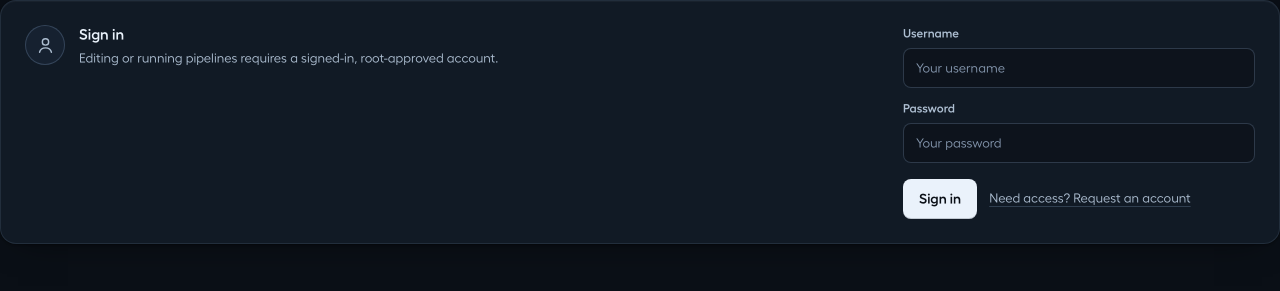
AdminAuthPanel › surfaces registration errors
Click the button "Need access? Request an account" at (1090, 199), box [983,183,1197,215]
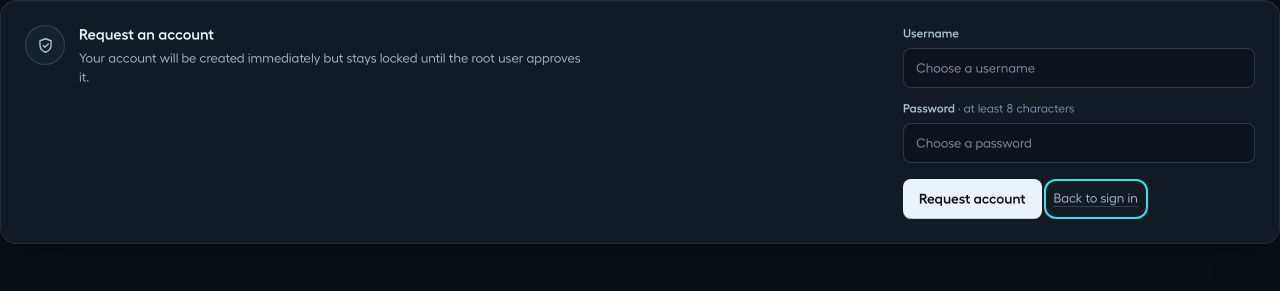
Type "alice" into the field with placeholder "Choose a username" at (1079, 68), box [903,48,1255,88]
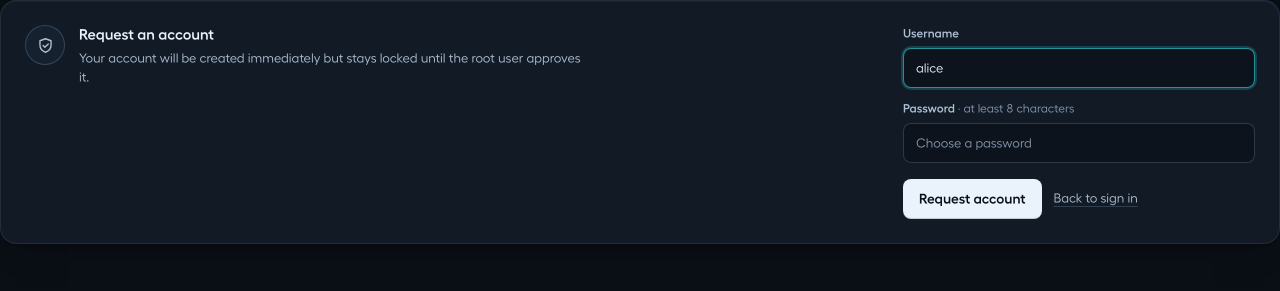
Type "alice password!" into the password field with placeholder "Choose a password" at (1079, 143), box [903,123,1255,163]
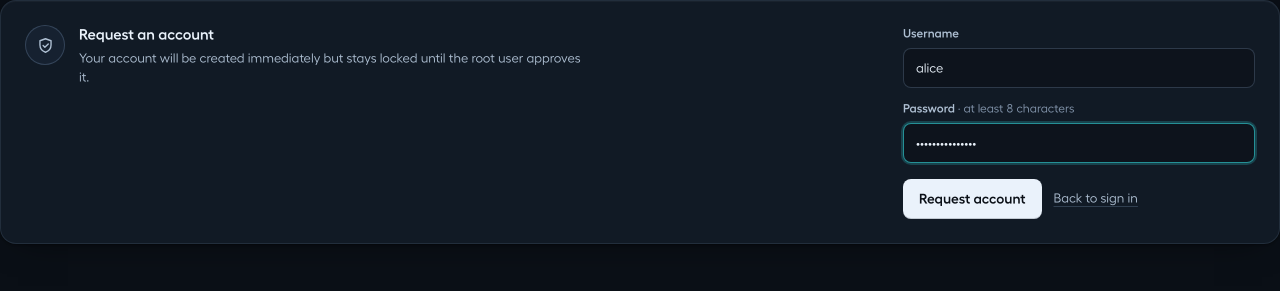
Click the button "Request account" at (972, 199), box [903,179,1042,219]
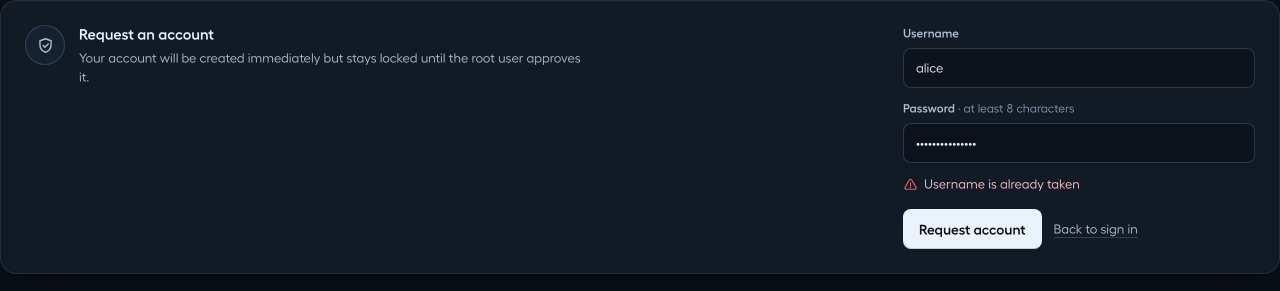
Now the message shows "already taken", box [924,177,1080,190]
